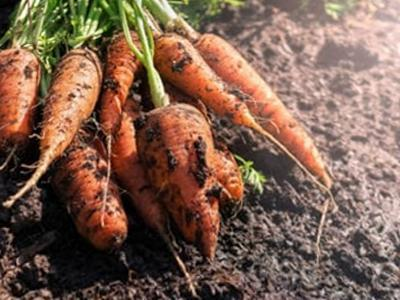carrot: (89, 29, 315, 269), (0, 47, 227, 262), (0, 41, 95, 183)
